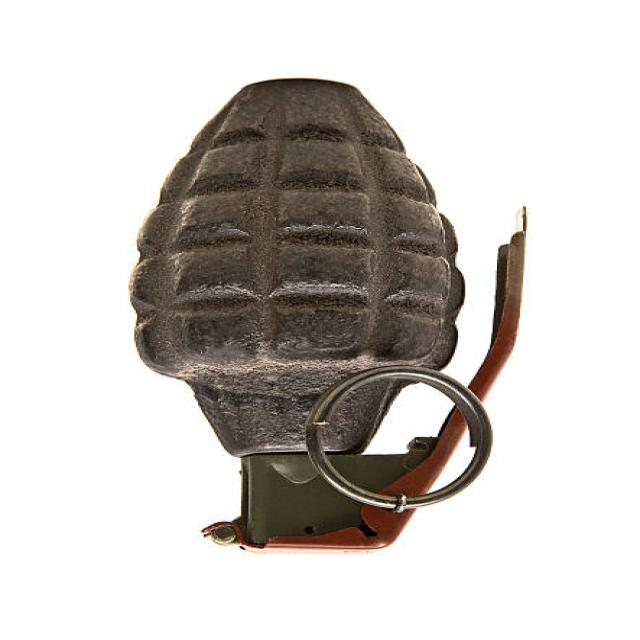grenade: (109, 76, 550, 570)
